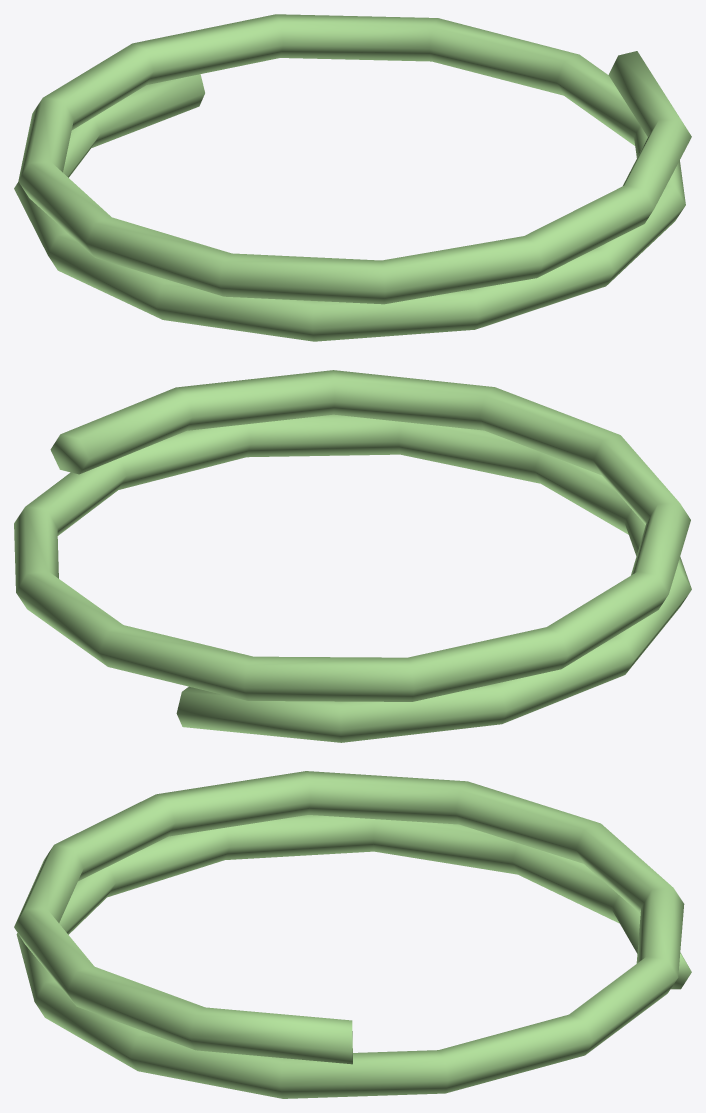
File: Keys_Ring2.FBX
3 views of the same model, one above another, from view 1: azimuth 30°, elevation 25°; view 2: azimuth 150°, elevation 25°; view 3: azimuth 270°, elevation 25° (orthographic).
Parts seen in each view (by area): view 1: KeyRing; view 2: KeyRing; view 3: KeyRing.
Boxes of the visible parts, x1=… form: KeyRing: x1=14, y1=14, x2=691, y2=341; KeyRing: x1=14, y1=370, x2=691, y2=742; KeyRing: x1=14, y1=771, x2=691, y2=1098.
Size of the model in its own units: 1.03 by 0.1647 by 1.03.
